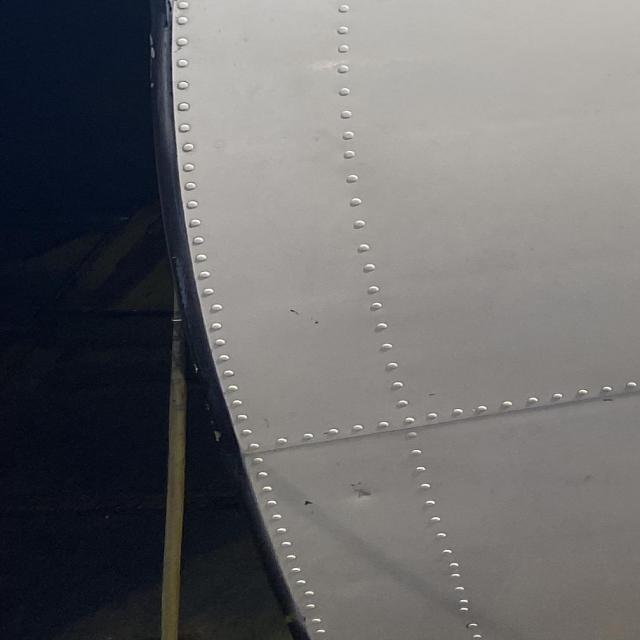Dent: (341, 477, 386, 512)
